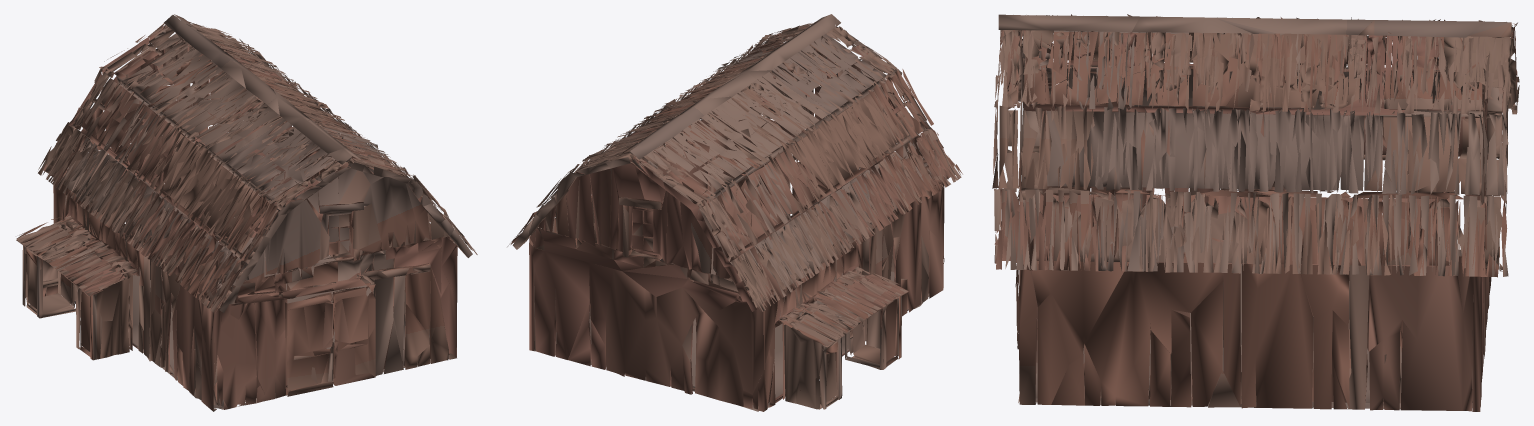
The model's file is barn.glb.
The picture shows the model from 3 angles, left to right: view 1: azimuth 30°, elevation 25°; view 2: azimuth 150°, elevation 25°; view 3: azimuth 270°, elevation 25°; orthographic projection. The views are drawn at different scales.
Parts seen in each view (by area): view 1: LO.001; view 2: LO.001; view 3: LO.001.
Boxes of the visible parts, x1=… form: LO.001: x1=16, y1=14, x2=477, y2=411; LO.001: x1=507, y1=14, x2=962, y2=411; LO.001: x1=992, y1=14, x2=1519, y2=411.
Bounding box in the file's own units: 1.75 × 1.29 × 1.93.
1 material, 1 textured.
